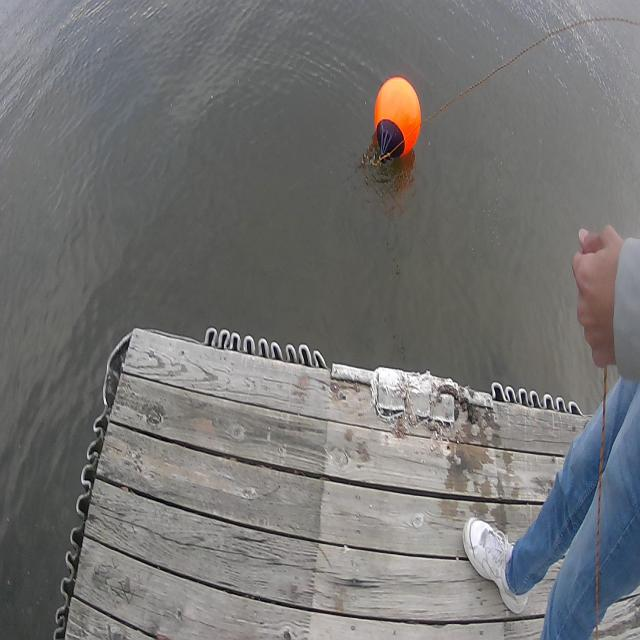Buoy: (364, 56, 429, 178)
